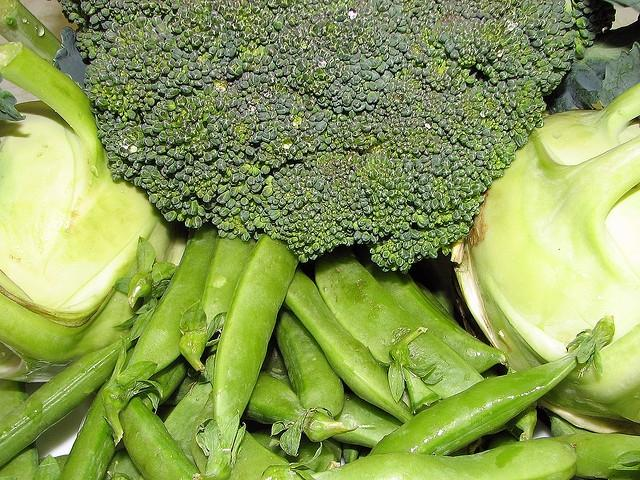broccoli: (56, 1, 616, 272)
